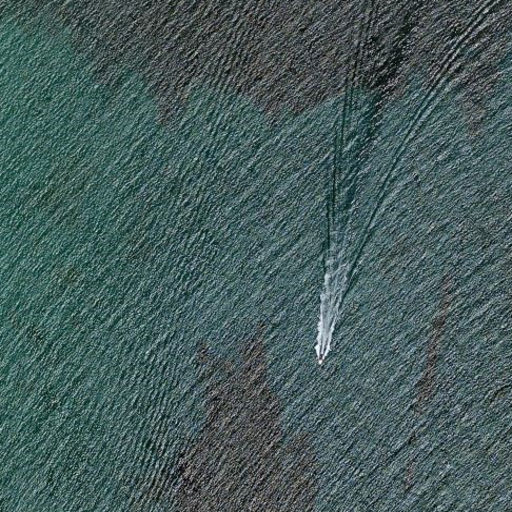ship: (312, 343, 332, 369)
